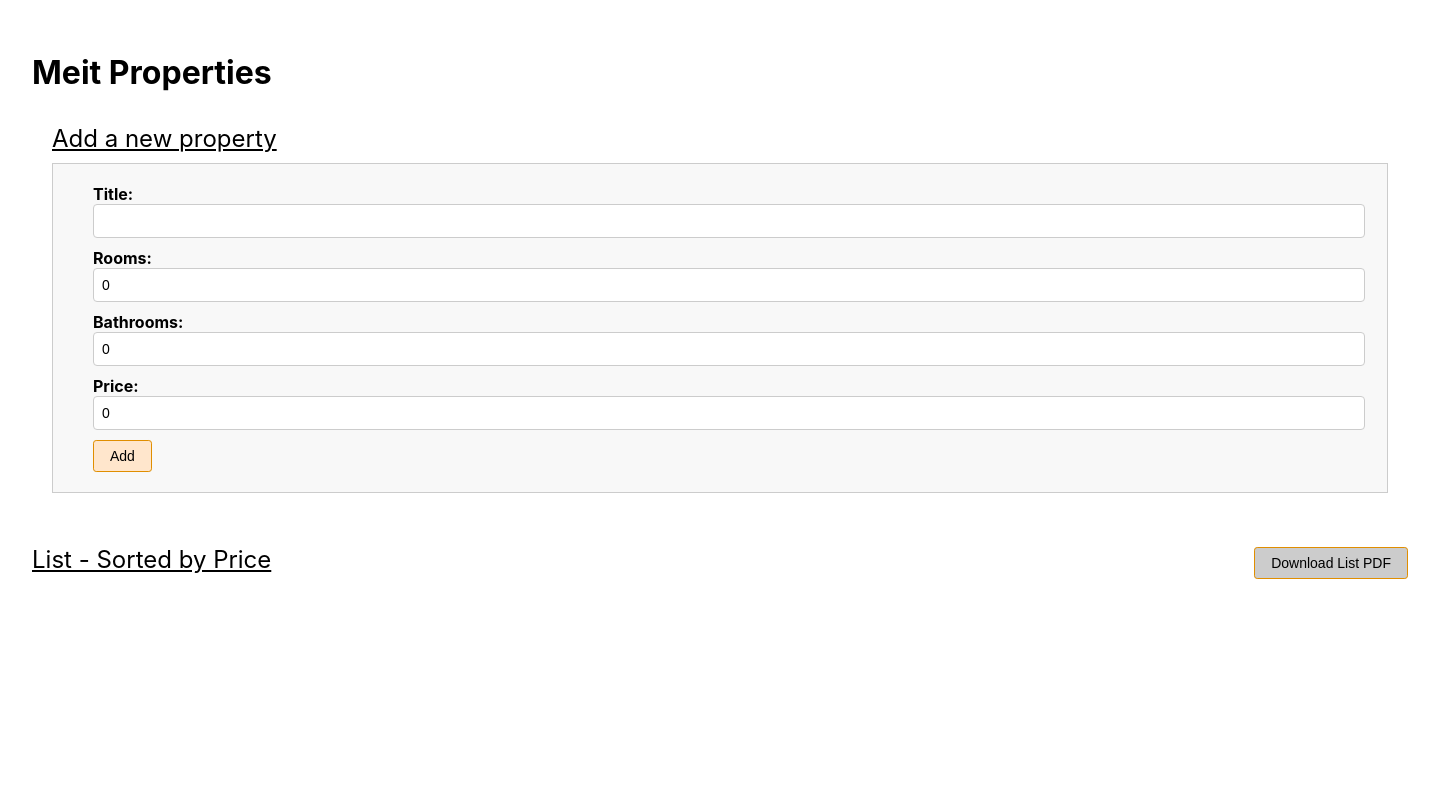
Test: deletes a property and confirms deletion
Type "Piso en calle de la Libertad, 6, Madrid" into the field labelled "Title:".
click(729, 221); type("Piso en calle de la Libertad, 6, Madrid")  # box [93,204,1365,238]
Type "3" into the number field labelled "Rooms:".
click(729, 285); type("3")  # box [93,268,1365,302]
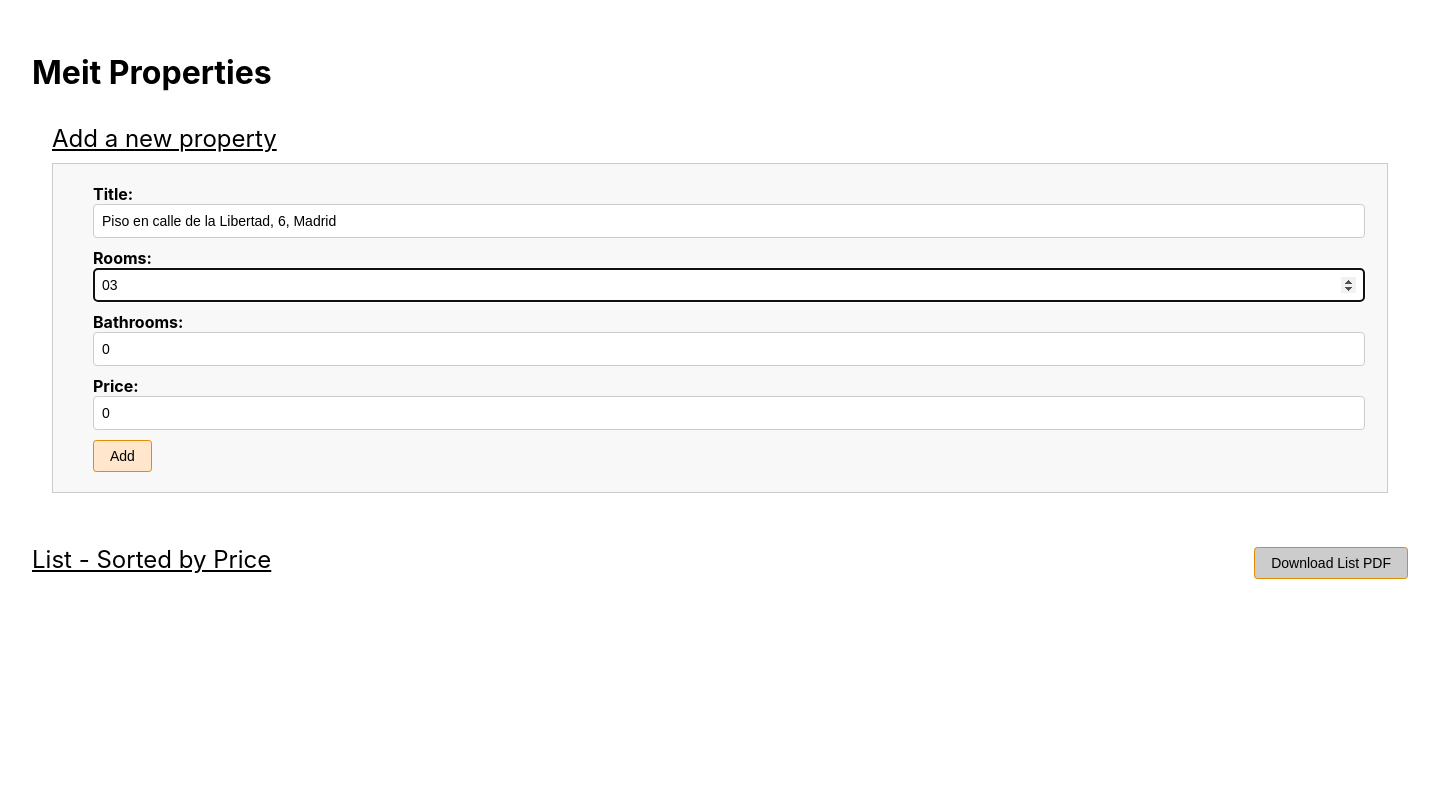
Type "2" into the number field labelled "Bathrooms:".
click(729, 349); type("2")  # box [93,332,1365,366]
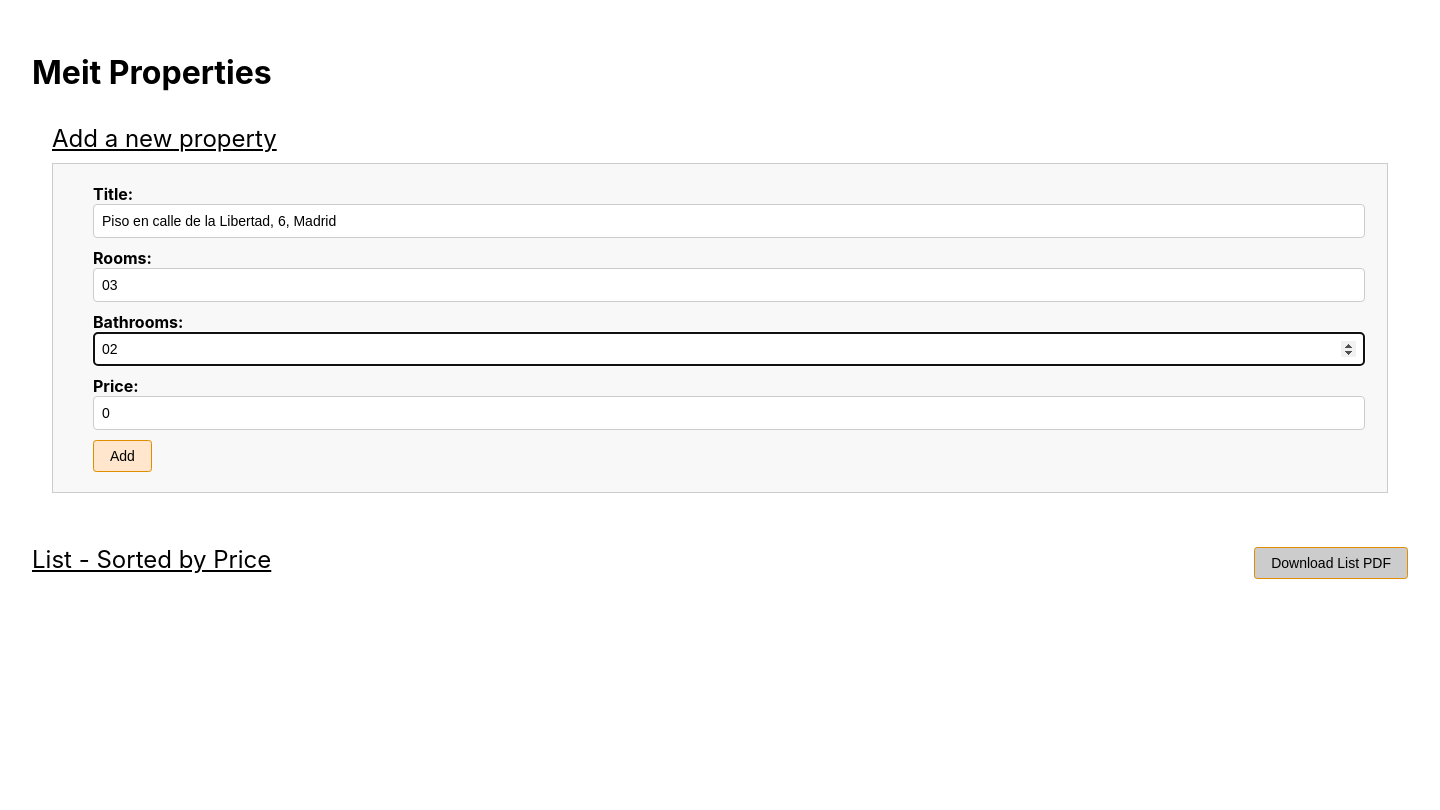
Type "900" into the number field labelled "Price:".
click(729, 413); type("900")  # box [93,396,1365,430]
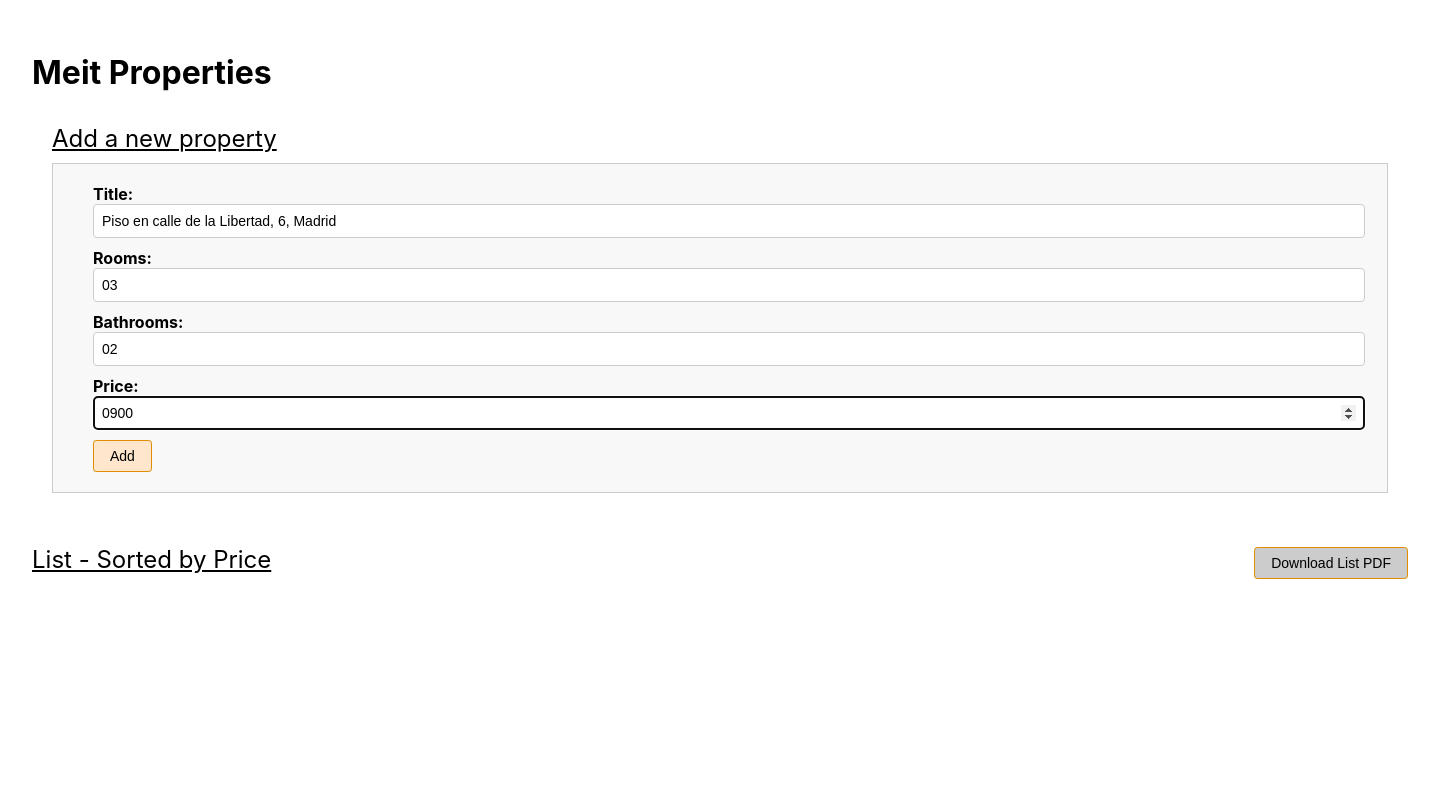
Click the button "Add".
click(122, 456)  # box [93,440,152,472]
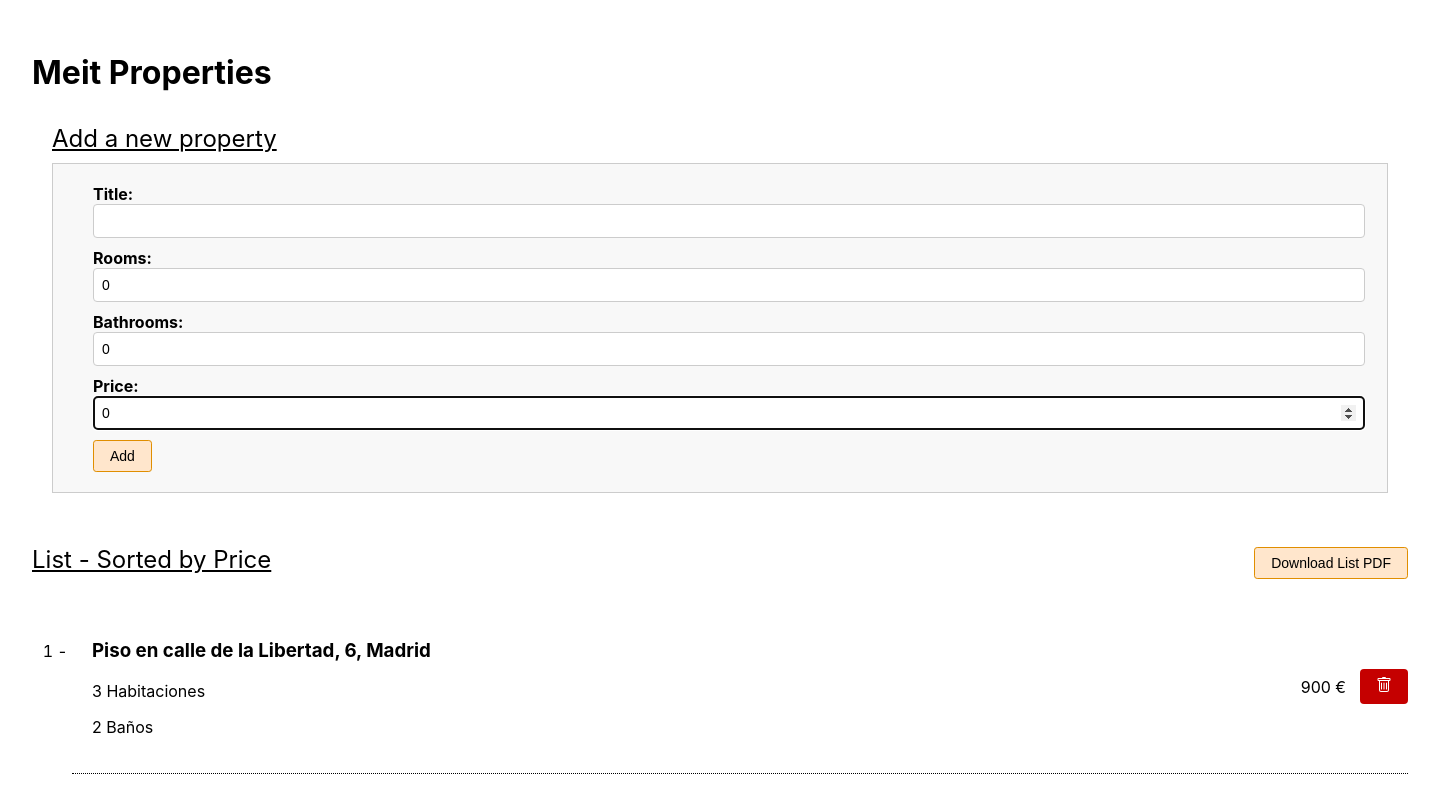
Expected: the heading "Piso en calle de la Libertad, 6, Madrid" is shown, [92,639,431,662]
Click the button named "Delete item".
click(1384, 687)  # box [1360,669,1408,704]
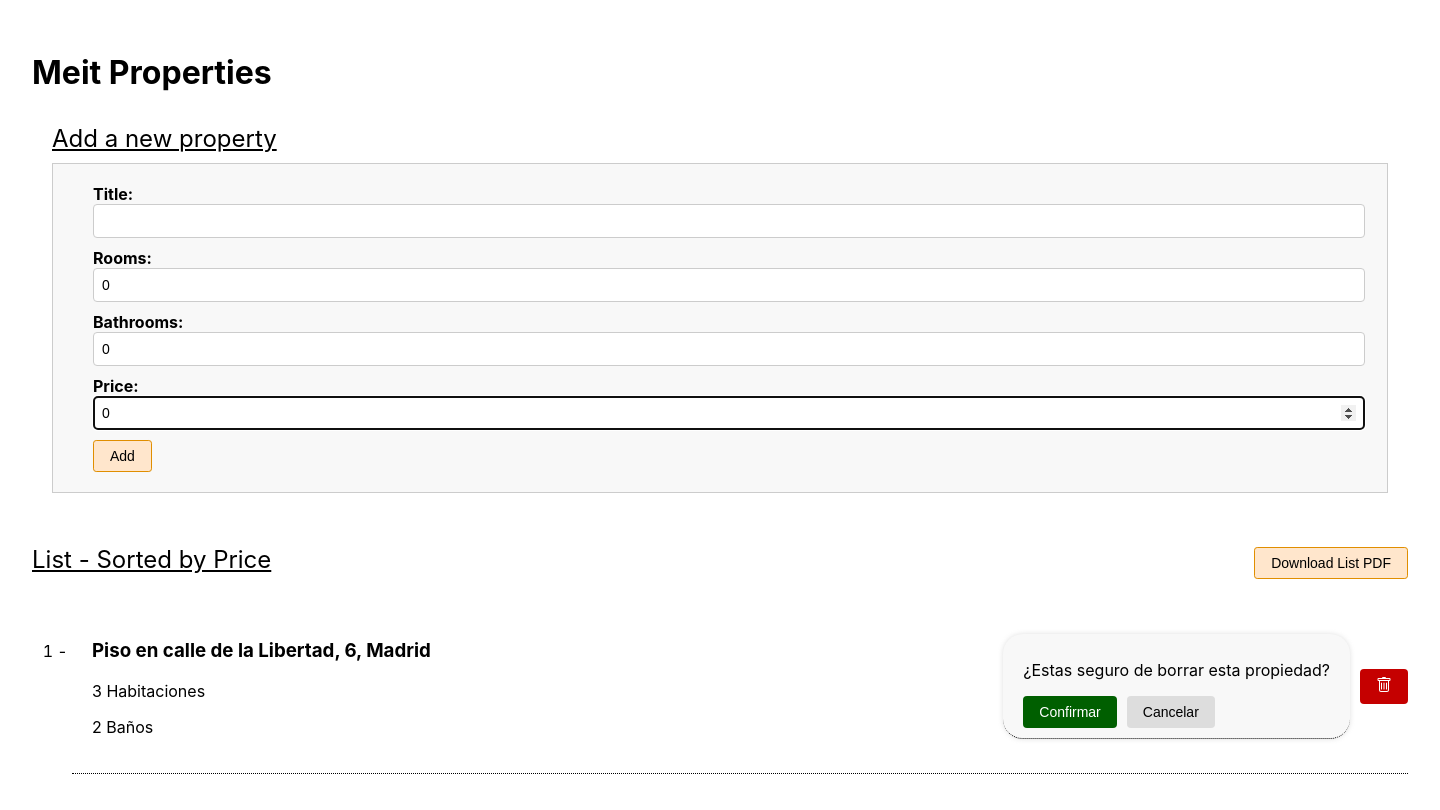
Click the button "Confirmar".
click(1070, 712)  # box [1023,696,1117,728]
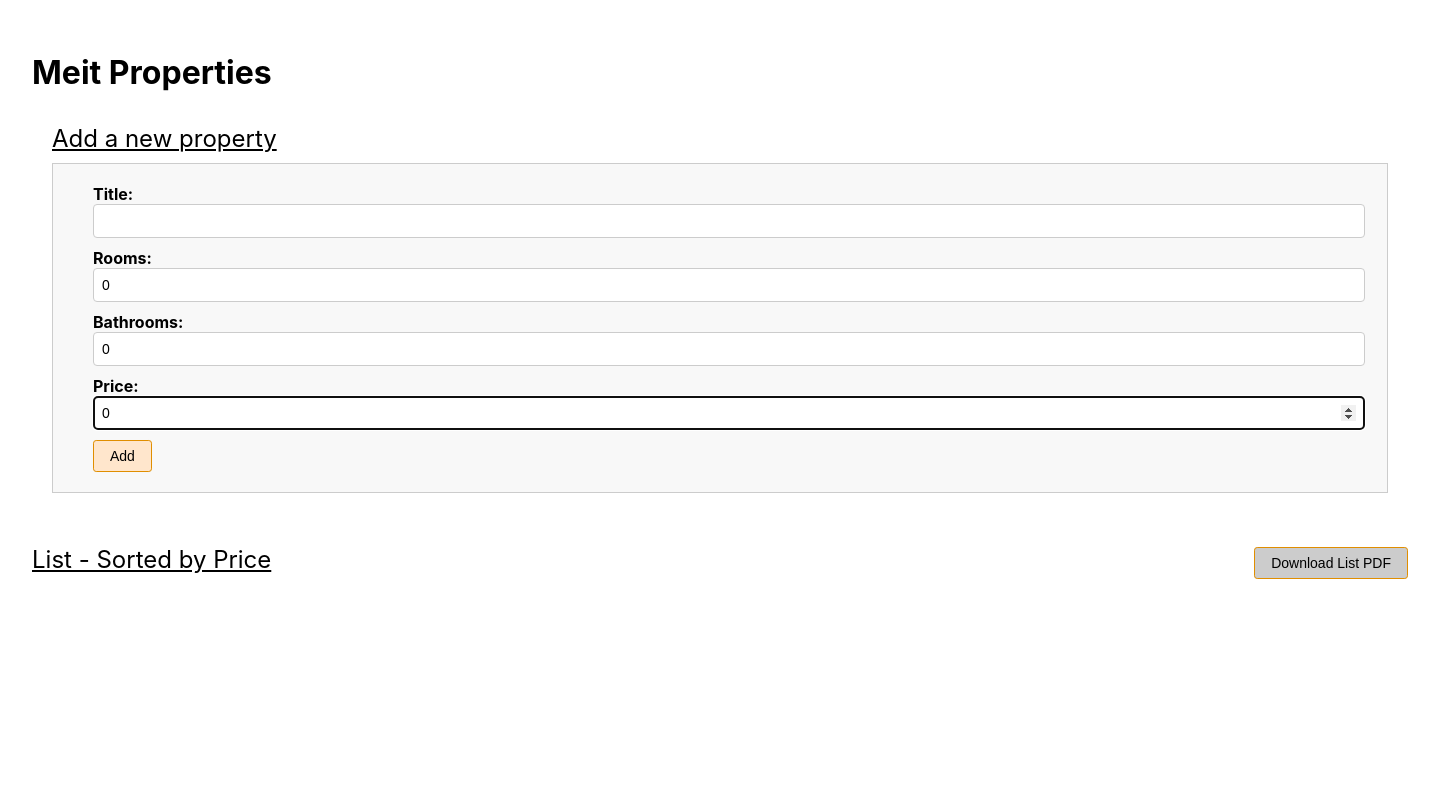
Expected: the heading "Piso en calle de la Libertad, 6, Madrid" is gone
